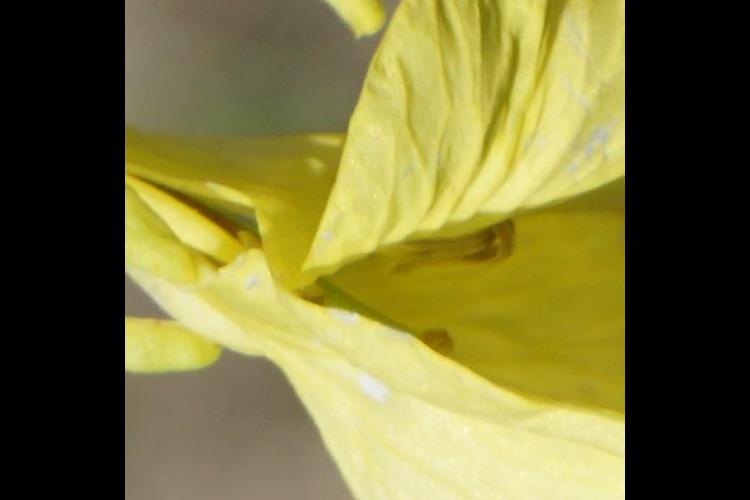yellow: (161, 1, 615, 500)
